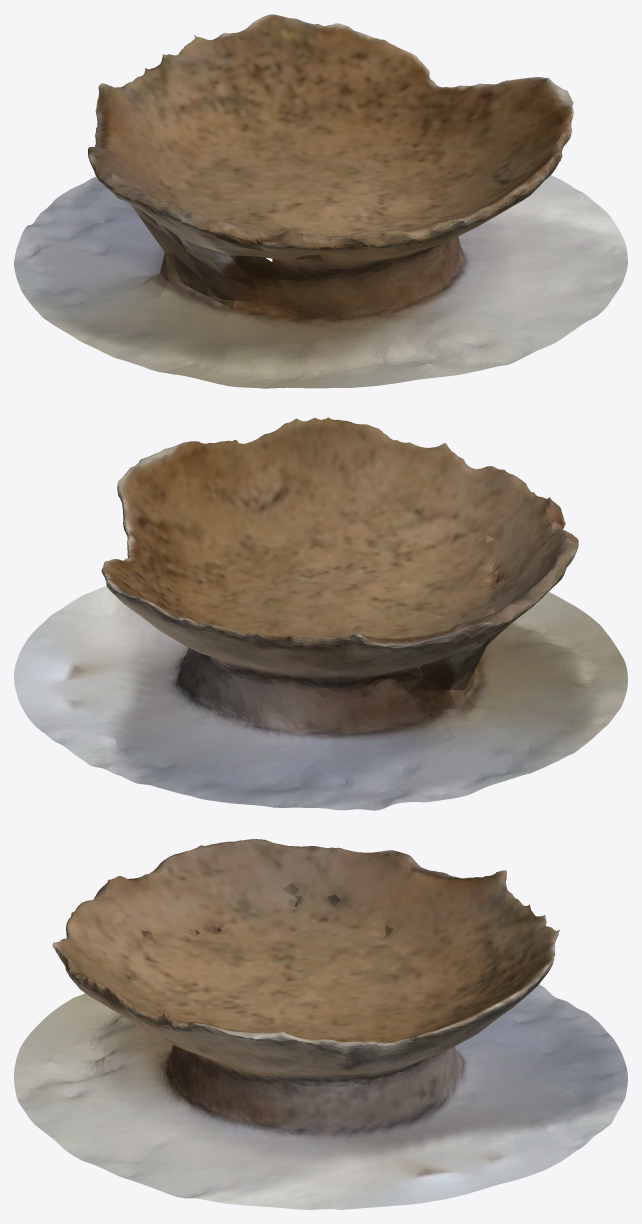
File: model08_small.glb
The picture shows the model from 3 angles, top to bottom: view 1: azimuth 30°, elevation 25°; view 2: azimuth 150°, elevation 25°; view 3: azimuth 270°, elevation 25°; orthographic projection.
Visible parts, largest first — view 1: mesh; view 2: mesh; view 3: mesh.
Boxes of the visible parts, bbox=[...] form: mesh: bbox=[14, 14, 627, 388]; mesh: bbox=[14, 417, 627, 810]; mesh: bbox=[14, 839, 627, 1209].
Bounding box in the file's own units: 0.1326 × 0.0379 × 0.1305.
Materials: 1 (1 with a texture image).
